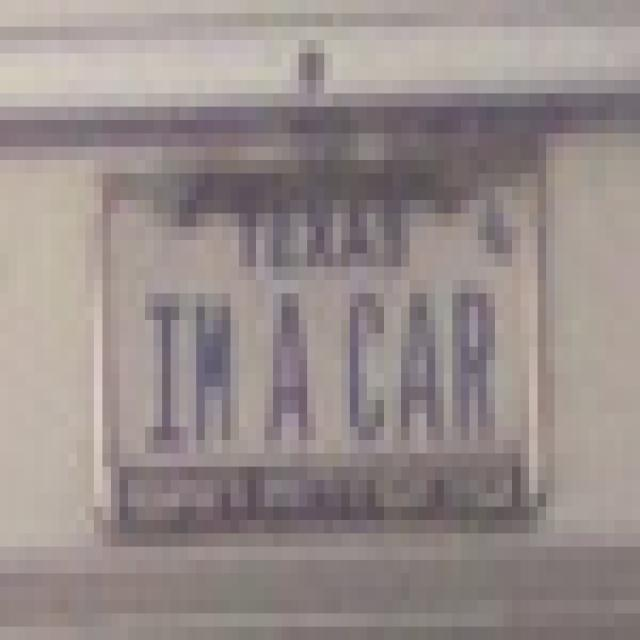A: (392, 268, 448, 462), (265, 277, 314, 447)
C: (345, 278, 397, 461)
I: (143, 284, 185, 459)
M: (188, 285, 238, 448)
R: (446, 281, 504, 455)
